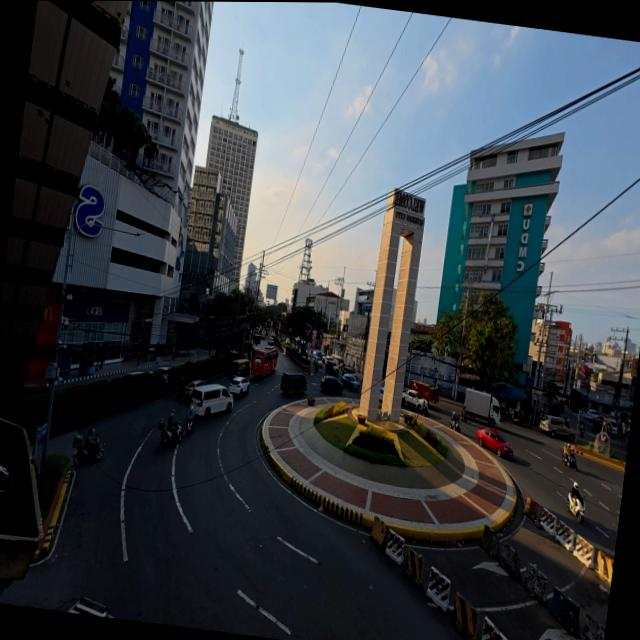Jeepneys: (231, 359, 249, 377)
bus: (250, 347, 277, 376)
car: (476, 429, 512, 457), (401, 390, 427, 412), (182, 379, 206, 400), (228, 377, 248, 398), (21, 383, 48, 397), (320, 376, 342, 393), (150, 366, 169, 385), (341, 374, 359, 391), (324, 359, 338, 377), (603, 418, 616, 436), (120, 370, 143, 378), (331, 354, 343, 369), (311, 351, 322, 366), (586, 408, 600, 419), (342, 367, 355, 375), (378, 383, 383, 399), (267, 337, 273, 346), (321, 353, 326, 363), (285, 339, 290, 345)
motorcycle: (73, 440, 103, 465), (158, 421, 182, 445), (567, 493, 583, 523), (185, 405, 194, 433), (562, 452, 576, 470), (446, 417, 462, 432), (508, 410, 521, 425), (174, 383, 184, 398), (185, 418, 193, 433), (459, 410, 469, 421)
trucks: (463, 388, 500, 427), (409, 380, 438, 406), (401, 390, 426, 413)
vans: (191, 385, 232, 417), (539, 416, 574, 441), (280, 373, 306, 394)
